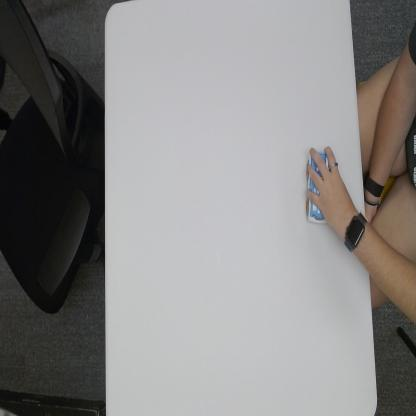Car: (306, 149, 328, 224)
Hand: (305, 144, 351, 230)
